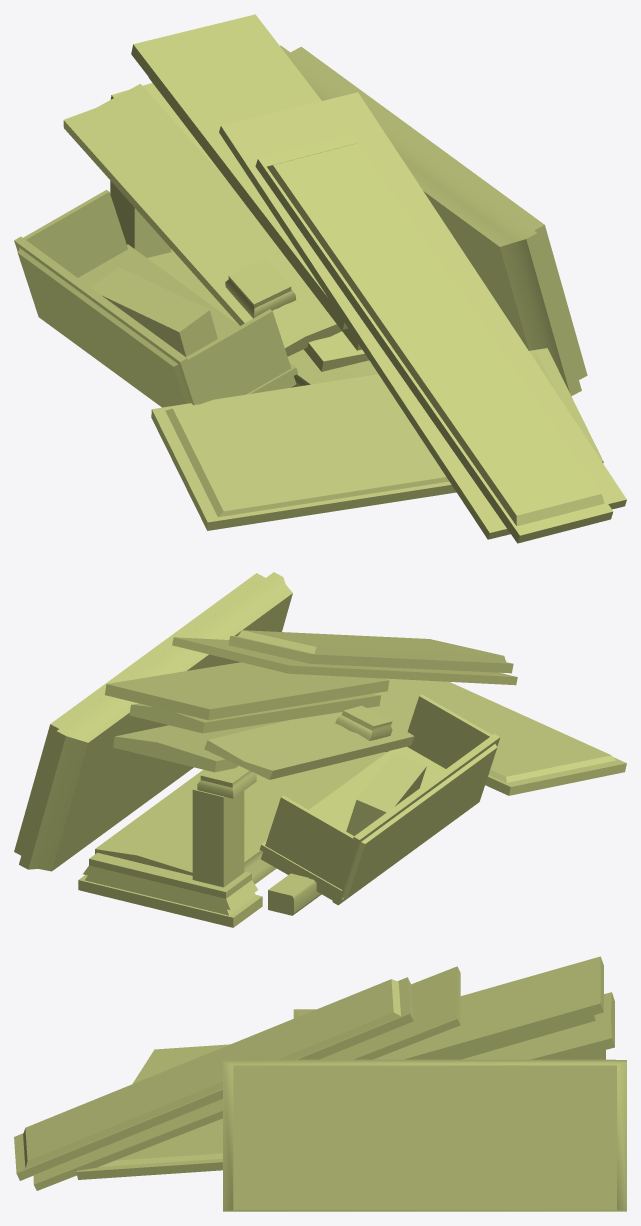
File: Cupboard_13A_Break_Lod0.fbx
3 renders of one model, top to bottom at view 1: azimuth 30°, elevation 25°; view 2: azimuth 150°, elevation 25°; view 3: azimuth 270°, elevation 25°, orthographic. The views are drawn at different scales.
Visible parts, largest first — view 1: Cupboard_13A_Break_Lod0; view 2: Cupboard_13A_Break_Lod0; view 3: Cupboard_13A_Break_Lod0.
Part boxes in pixels (x1=…): Cupboard_13A_Break_Lod0: x1=14, y1=14, x2=626, y2=543; Cupboard_13A_Break_Lod0: x1=14, y1=572, x2=626, y2=927; Cupboard_13A_Break_Lod0: x1=14, y1=956, x2=626, y2=1211.
Bounding box in the file's own units: 157 × 84.35 × 247.
